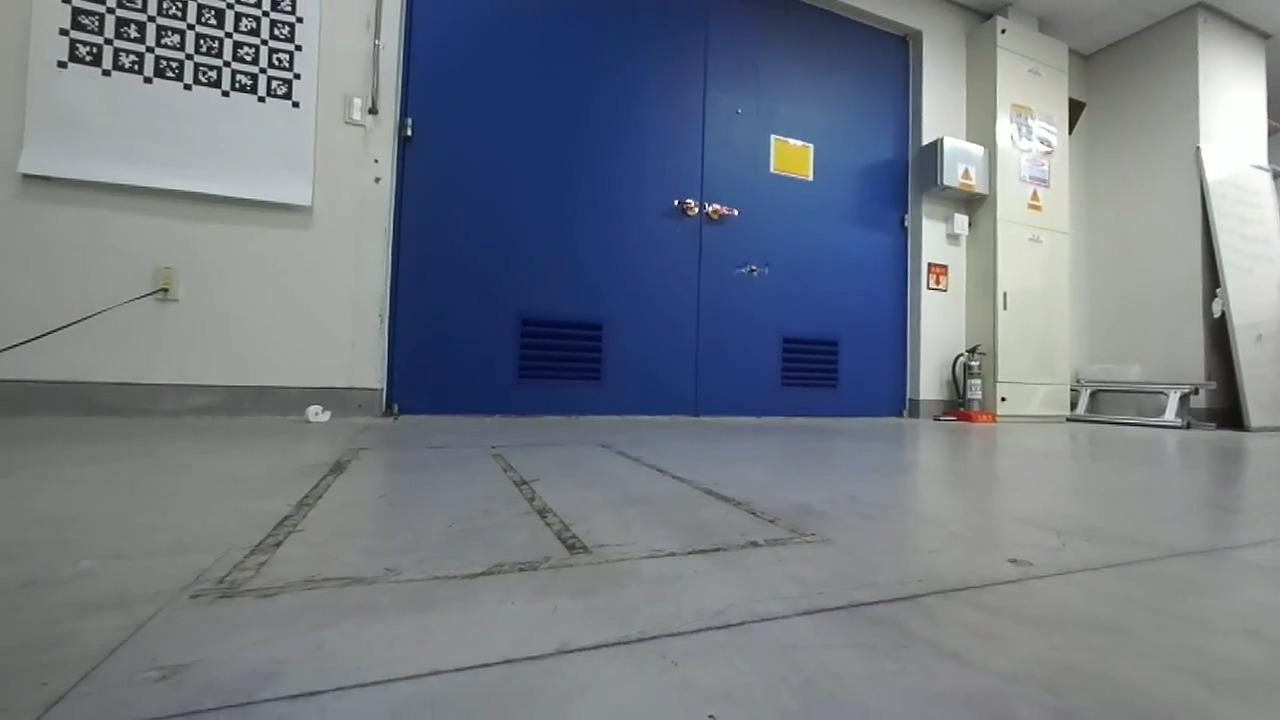crazyflie: (729, 257, 775, 281)
